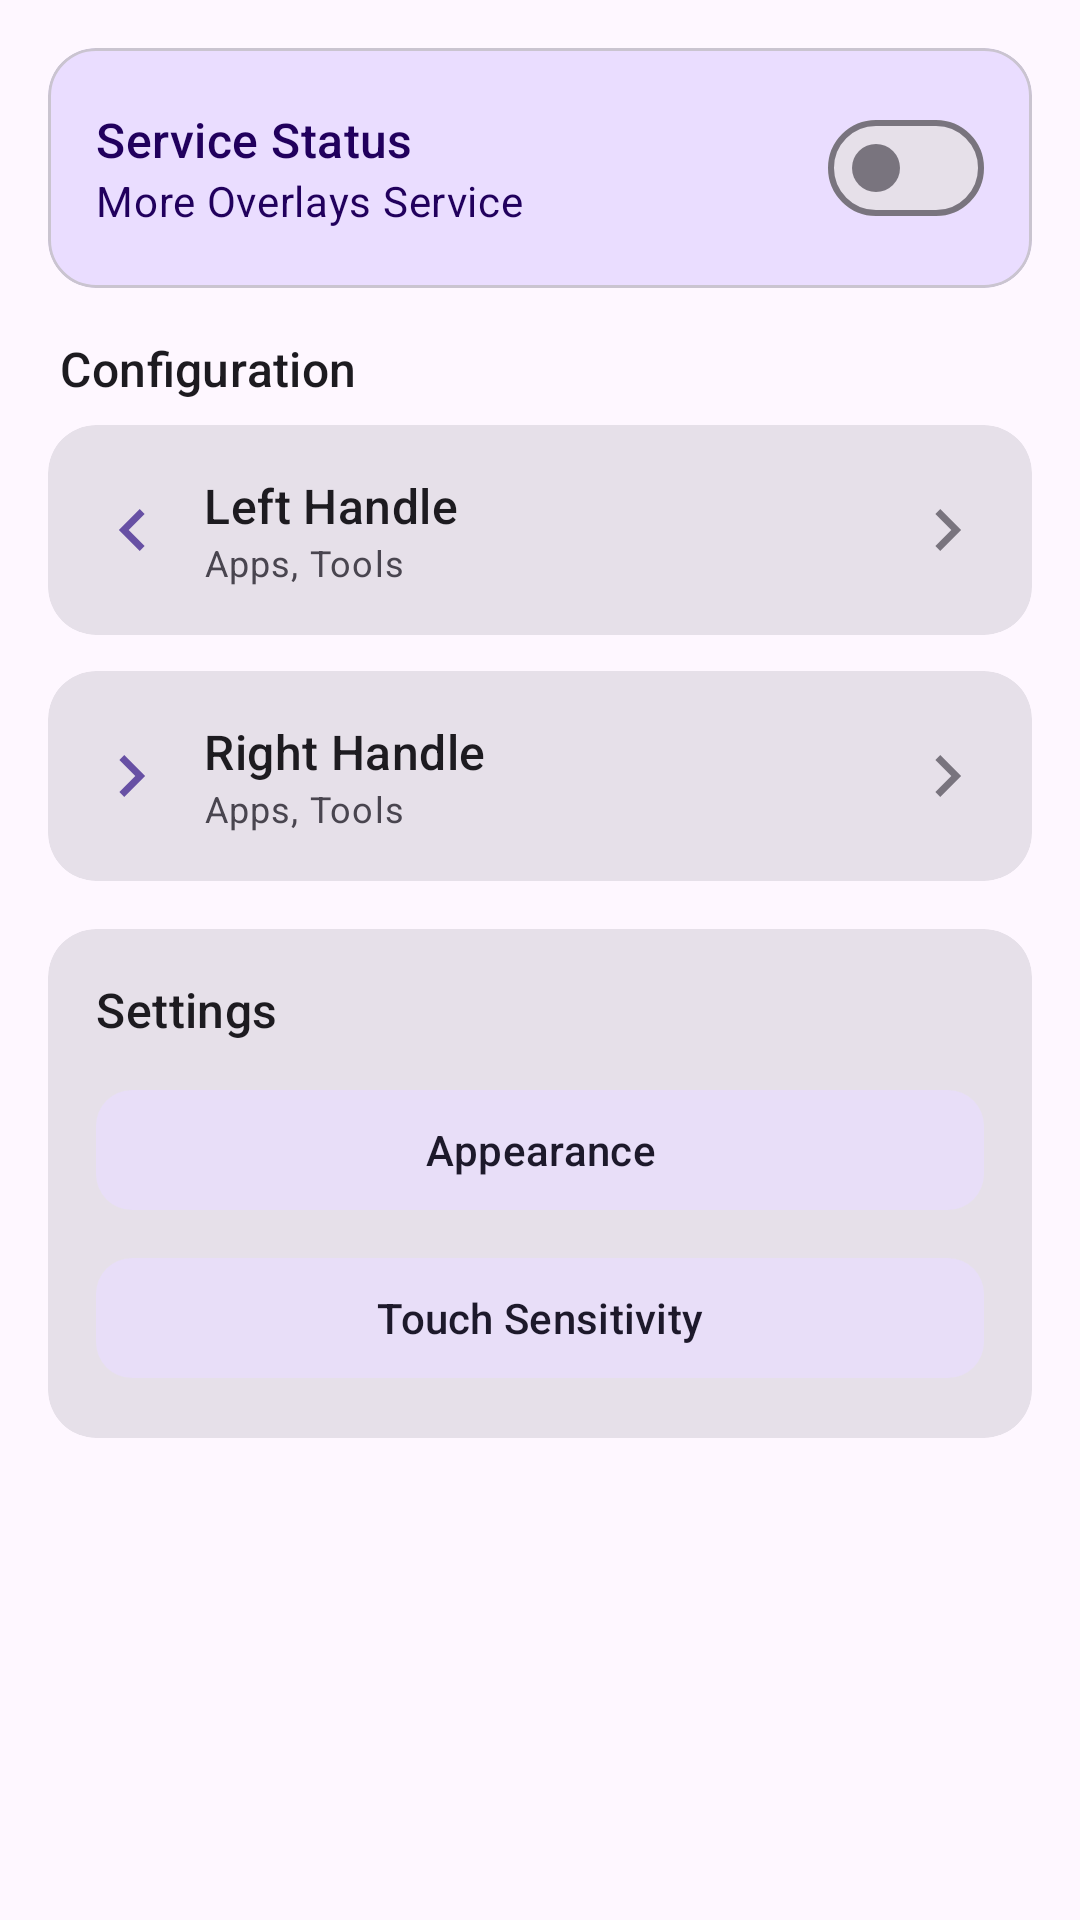

Where icons sit on this 1080px×1920px app screen, as {"x1": x1, "y1": y1, "x2": x2, "y2": y2}:
chevron left: {"x1": 119, "y1": 509, "x2": 145, "y2": 551}
chevron right: {"x1": 936, "y1": 509, "x2": 961, "y2": 551}, {"x1": 119, "y1": 755, "x2": 145, "y2": 797}, {"x1": 936, "y1": 755, "x2": 961, "y2": 797}
